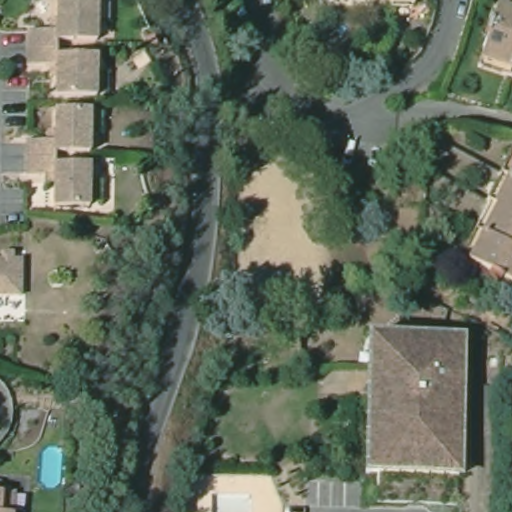pool: (36, 442, 66, 489)
